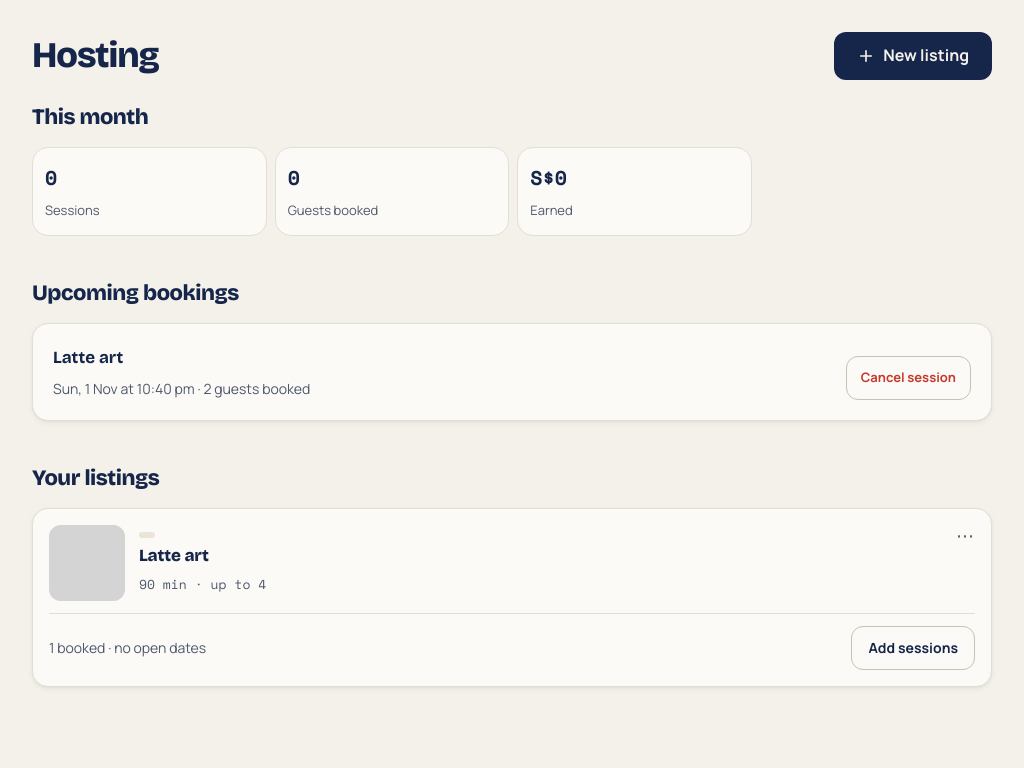
Test: Dashboard listings › refuses delete when an upcoming session has an active booking
Expected: the heading "Hosting" is shown, x1=32 y1=36 x2=159 y2=76
Click the button named "More actions". click: {"x": 965, "y": 535}
box: x1=947 y1=517 x2=983 y2=553
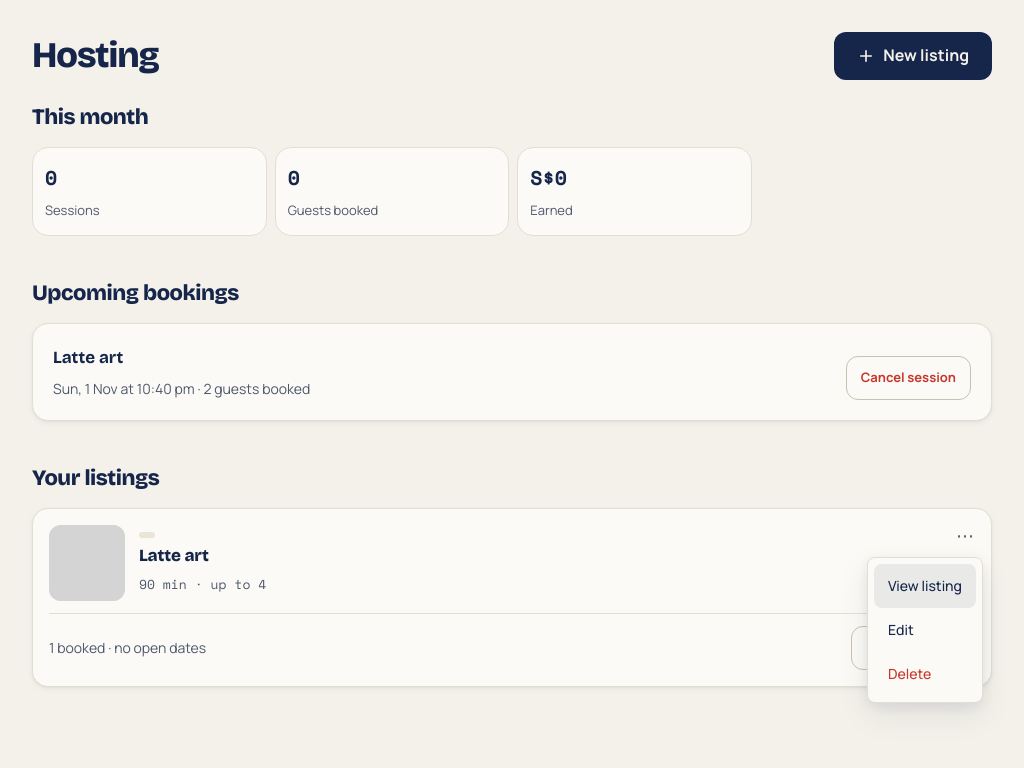
Click the menu item "Delete". click: {"x": 925, "y": 674}
box: x1=874 y1=652 x2=976 y2=696
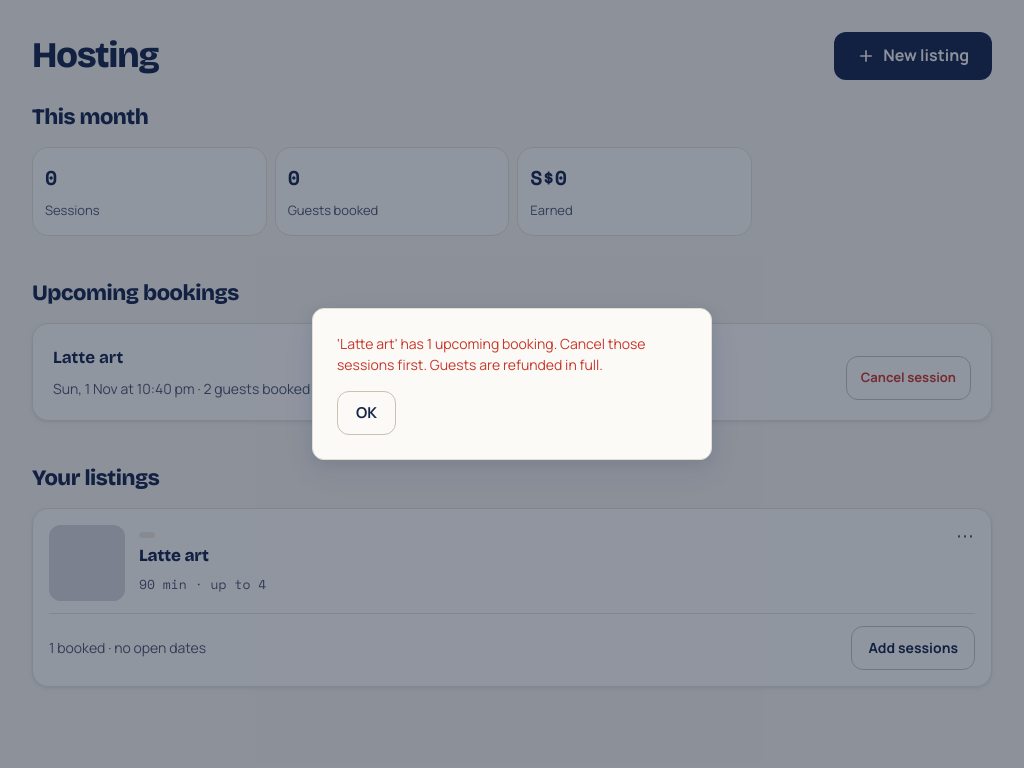
Expected: the dialog shows "'Latte art' has 1 upcoming booking. Cancel those sessions first. Guests are refunded in full.", x1=337 y1=334 x2=646 y2=374
